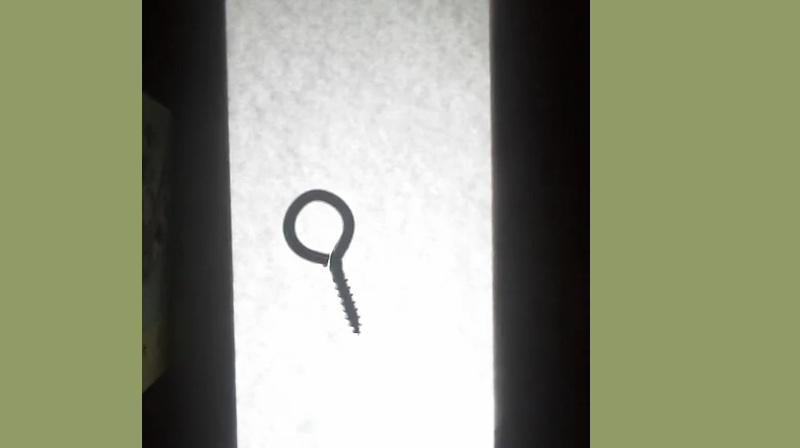O001: (280, 183, 365, 337)
